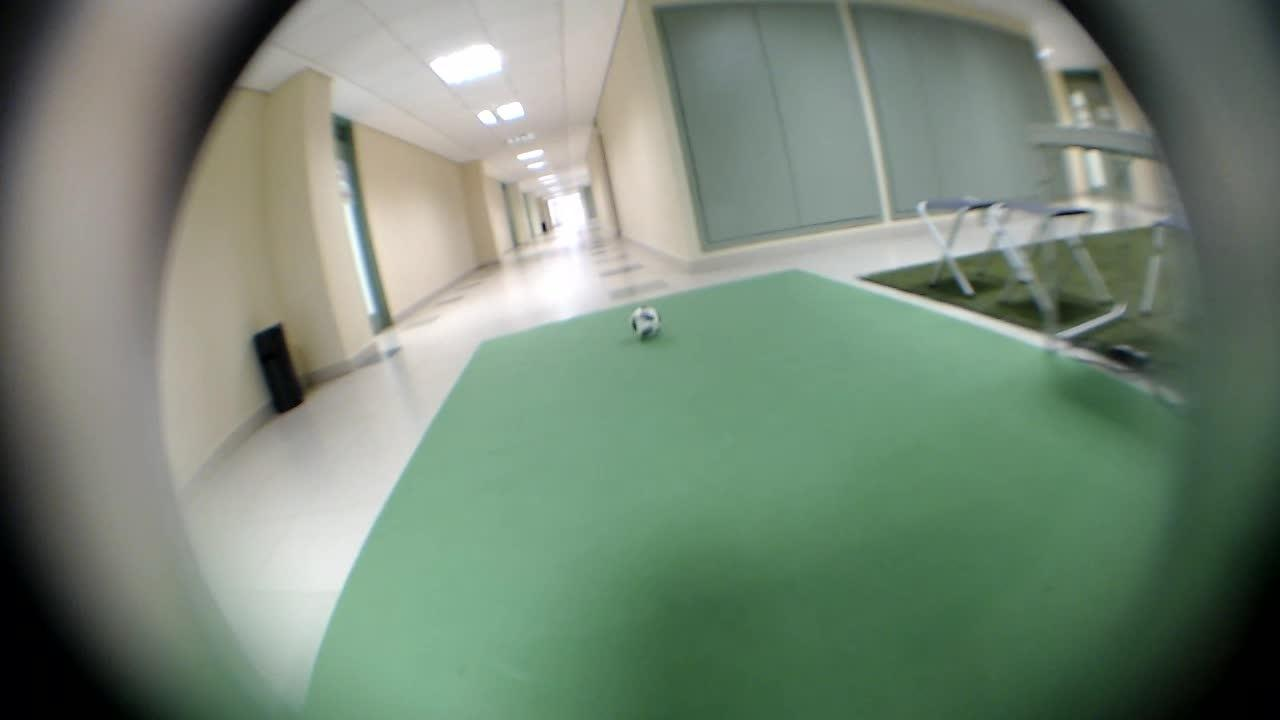ball: (621, 291, 667, 342)
